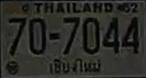0: (28, 17, 45, 54), (82, 17, 99, 54)
4: (121, 16, 138, 53), (102, 16, 119, 53)
7: (8, 17, 25, 55), (63, 16, 79, 54)
CMI: (45, 57, 103, 75)
